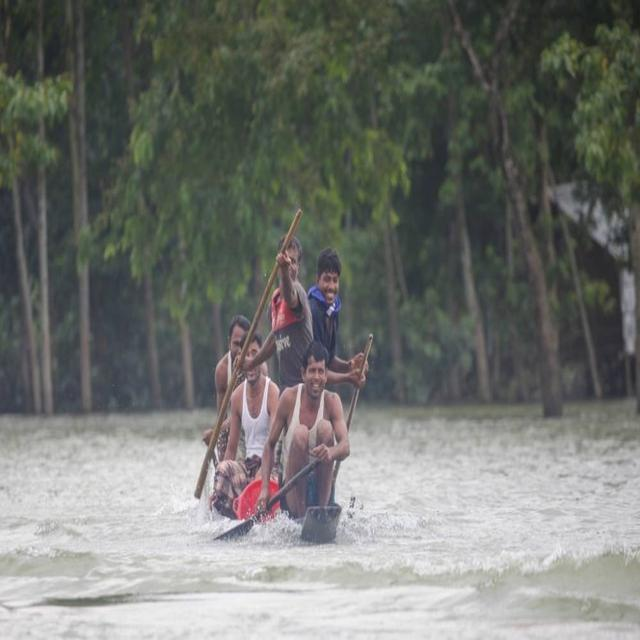Person-RiskLevel3: (206, 230, 355, 531)
